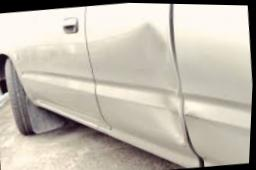Door: (101, 17, 195, 150)
